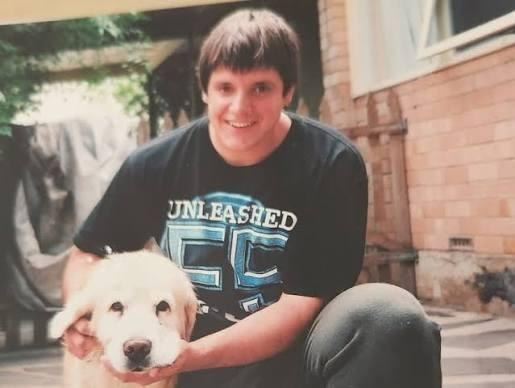non-dog: (58, 7, 447, 388)
puppy-dog: (45, 248, 194, 388)
